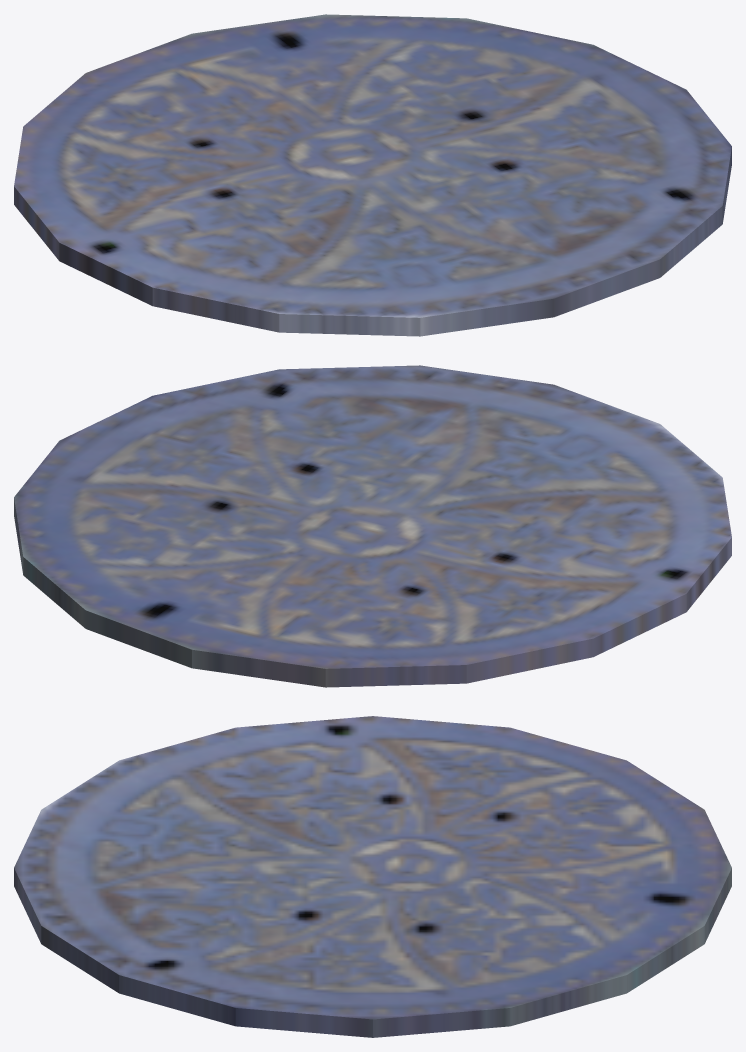
The model's file is road_a1_gutter5a.fbx.
3 views of the same model, one above another, from view 1: azimuth 30°, elevation 25°; view 2: azimuth 150°, elevation 25°; view 3: azimuth 270°, elevation 25° (orthographic).
Parts seen in each view (by area): view 1: road_a1_gutter5a; view 2: road_a1_gutter5a; view 3: road_a1_gutter5a.
Boxes of the visible parts, bbox=[...] form: road_a1_gutter5a: bbox=[14, 14, 731, 336]; road_a1_gutter5a: bbox=[14, 365, 731, 687]; road_a1_gutter5a: bbox=[14, 716, 731, 1037].
Size of the model in its own units: 62.49 by 1.77 by 62.49.
